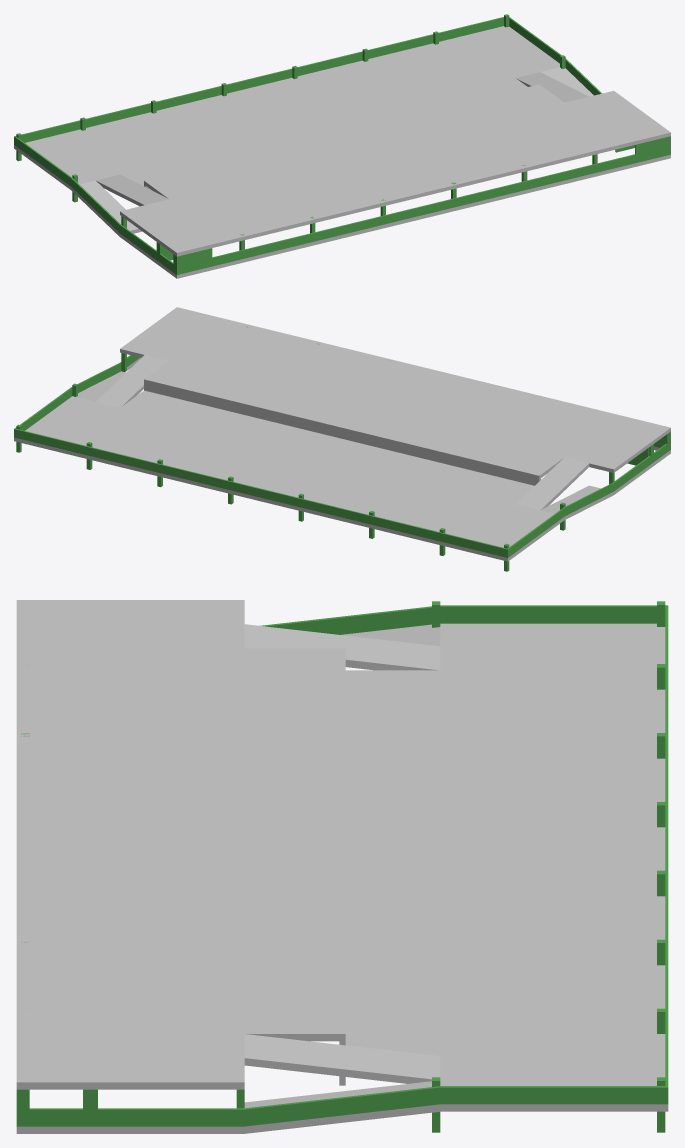
The model's file is carparkB.glb.
3 views of the same model, one above another, from view 1: azimuth 30°, elevation 25°; view 2: azimuth 150°, elevation 25°; view 3: azimuth 270°, elevation 25° (orthographic). The views are drawn at different scales.
Parts seen in each view (by area): view 1: carparkB; view 2: carparkB; view 3: carparkB.
Boxes of the visible parts, box(x1,y1,x2,y2) form: carparkB: box(14, 14, 670, 278); carparkB: box(14, 307, 670, 571); carparkB: box(16, 600, 668, 1133).
Bounding box in the file's own units: 70 × 3.5 × 40.
